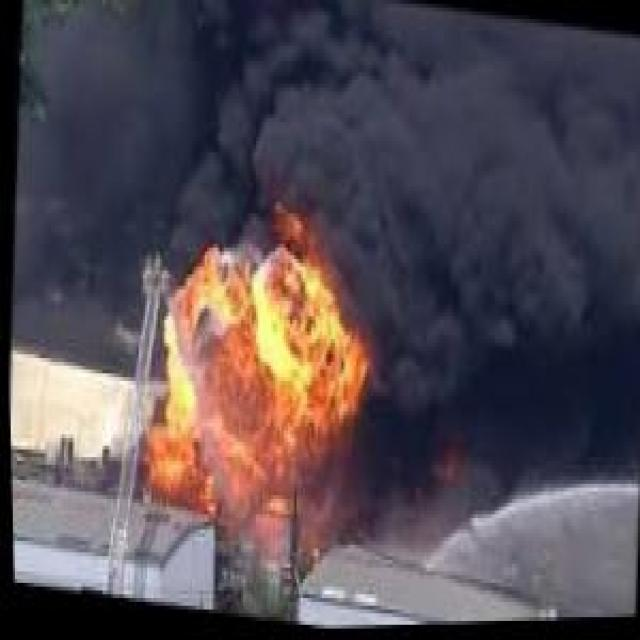Fire: (125, 183, 374, 541)
Smoke: (335, 0, 638, 358), (12, 0, 356, 225)
